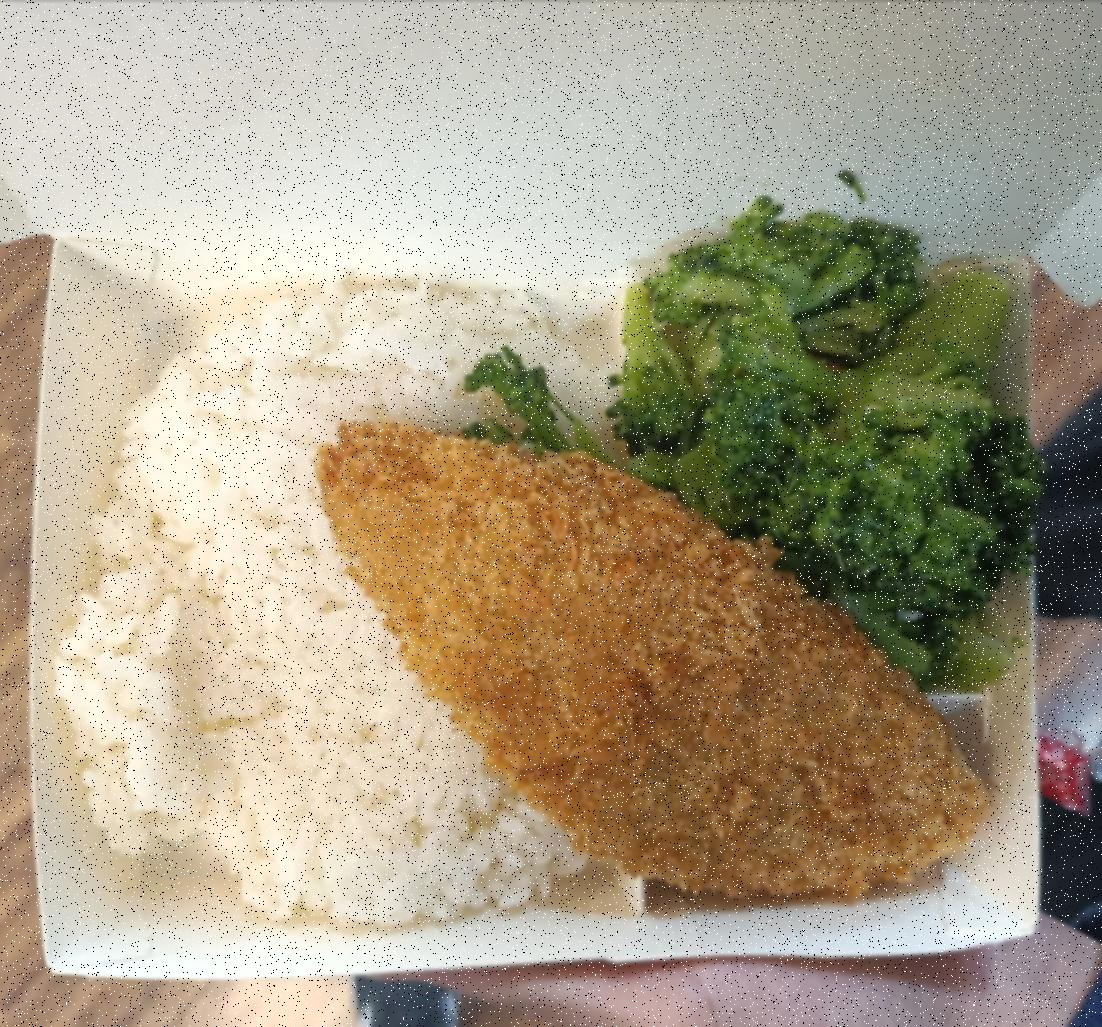big grilled chicken leg: (8, 213, 1068, 982)
big herbal chicken leg: (96, 266, 604, 926)
braised fish fillet: (628, 253, 1022, 568)
braised pork: (398, 433, 968, 912)
